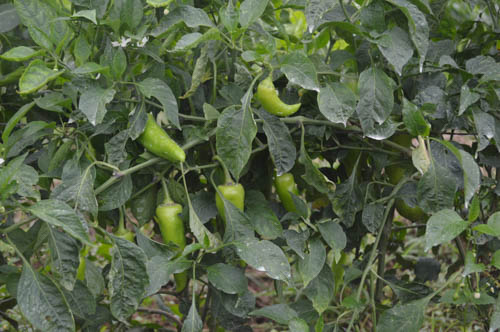ChiliPepper: (385, 130, 422, 220), (153, 204, 188, 291), (136, 117, 187, 164), (257, 81, 302, 117), (214, 182, 246, 223), (277, 172, 300, 213)
